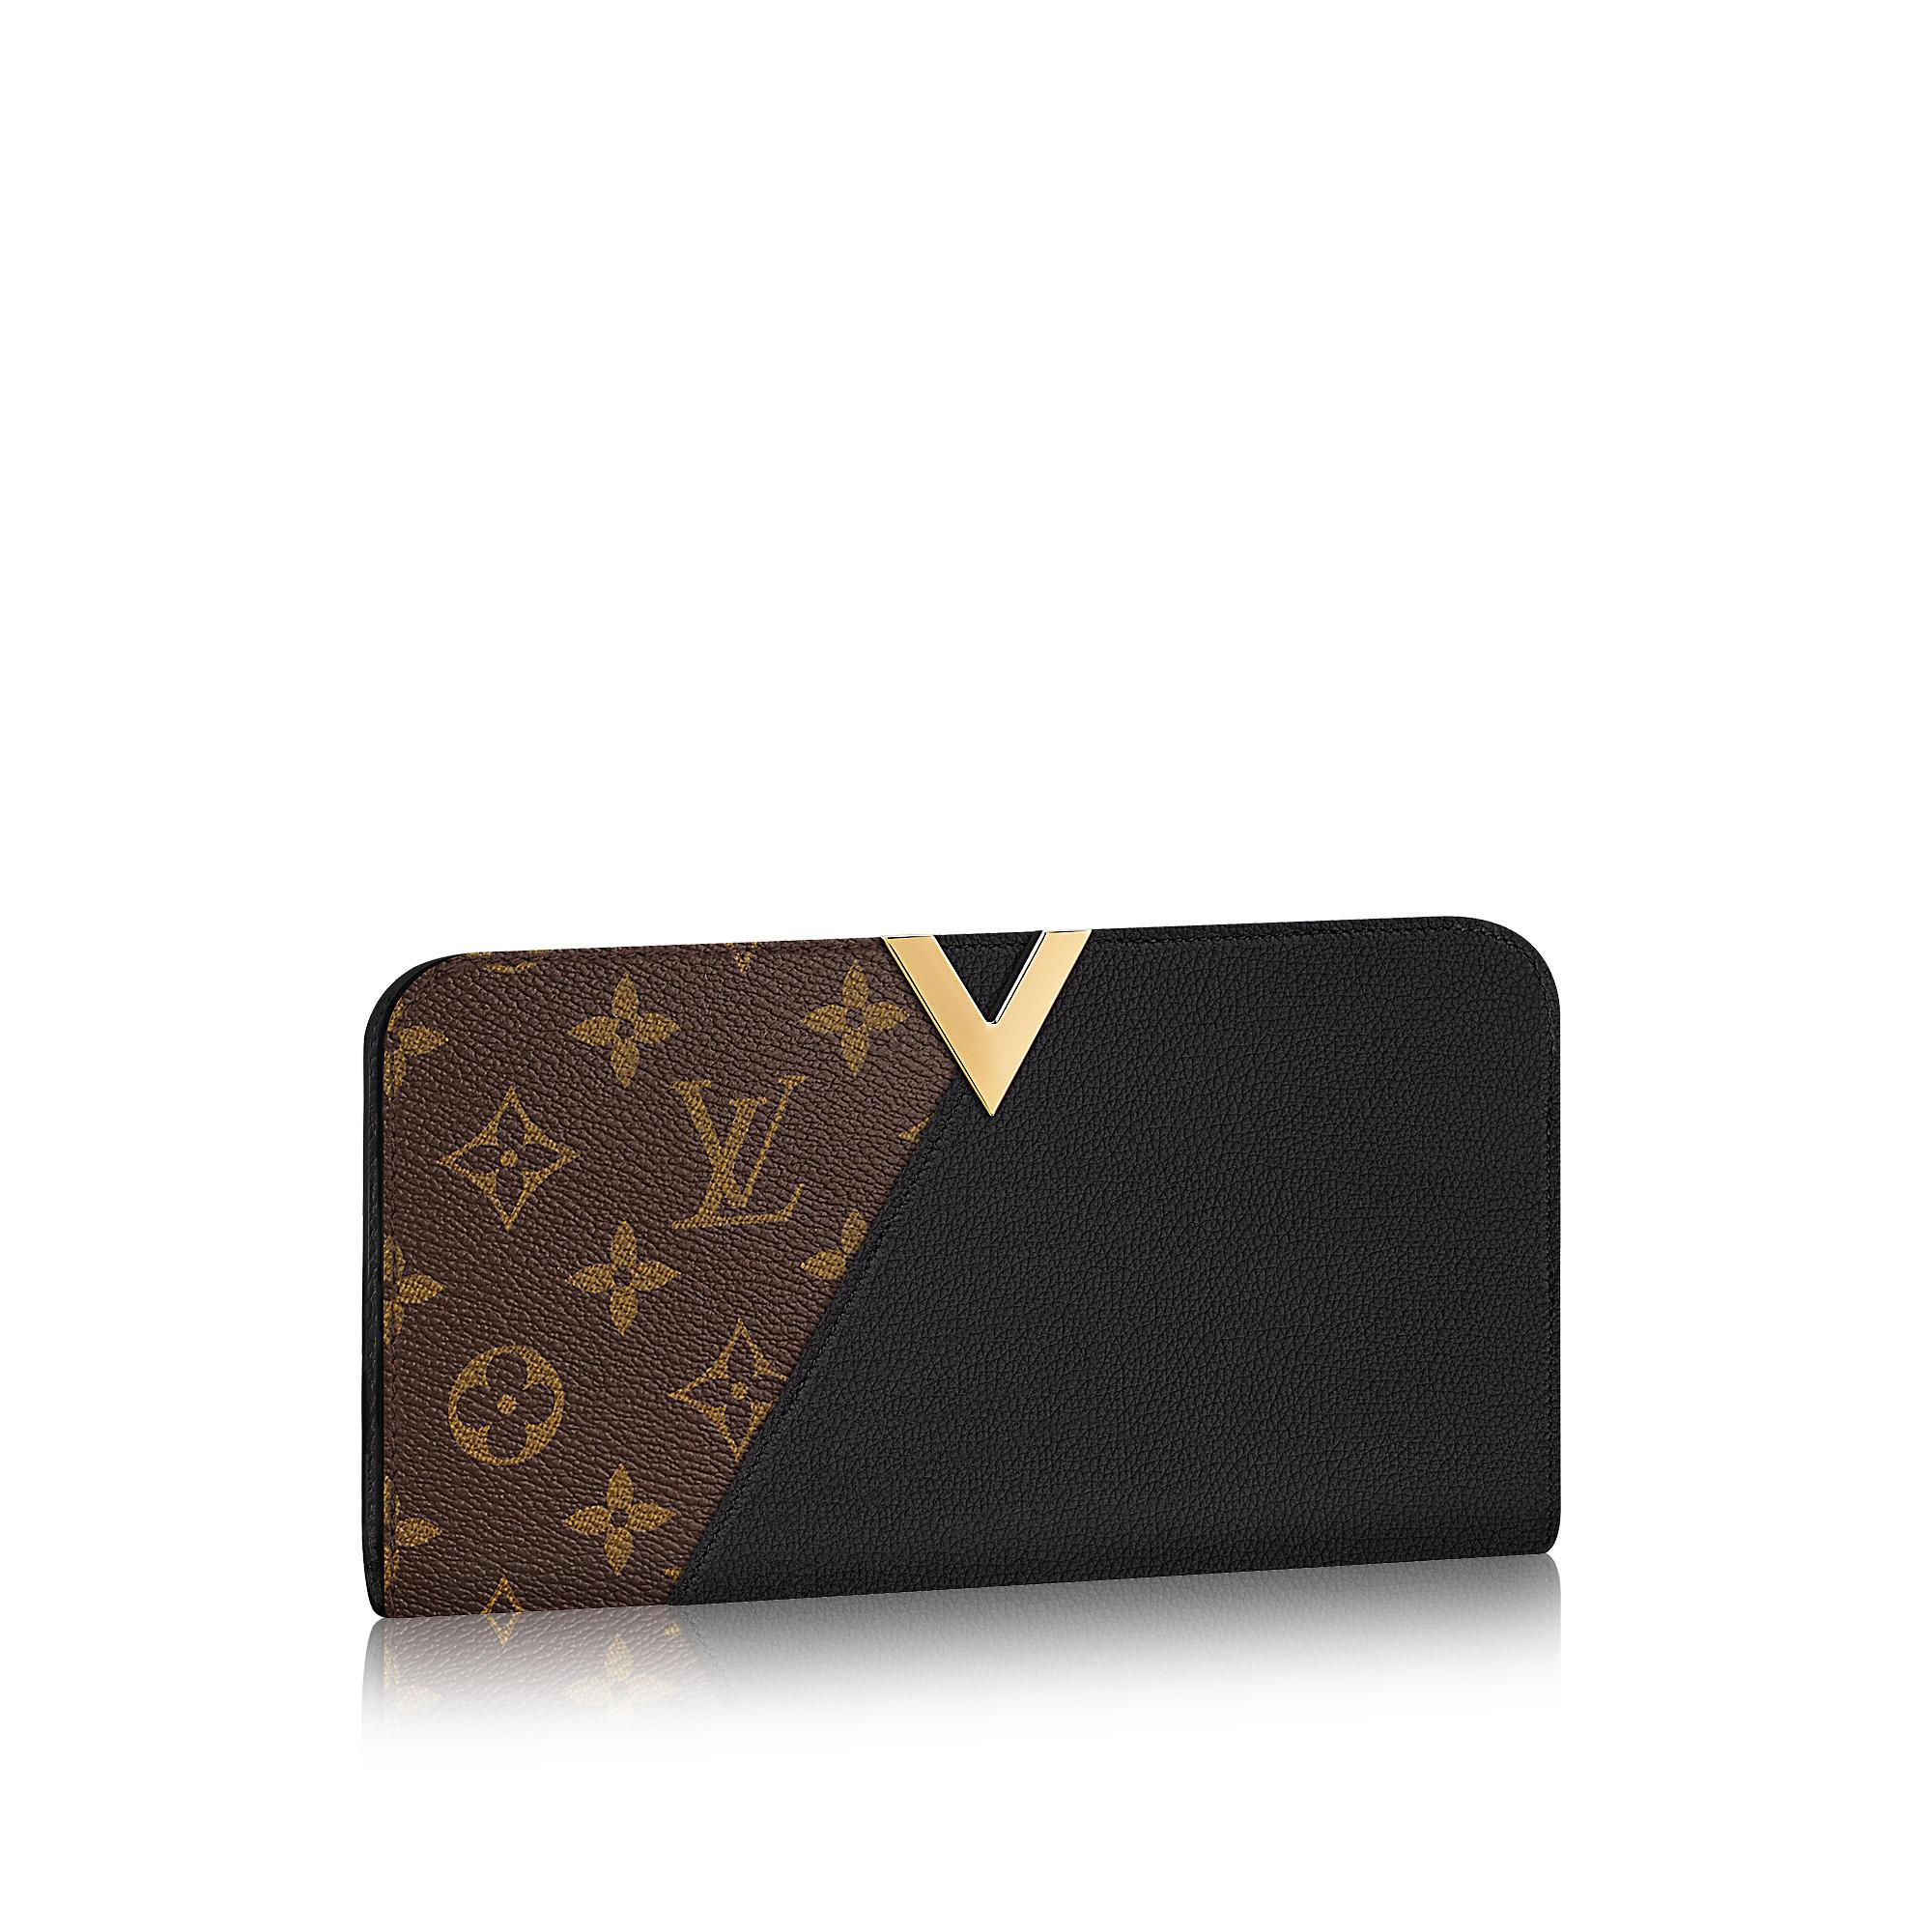LOUIS-VUITTON: (660, 1069, 810, 1231)
